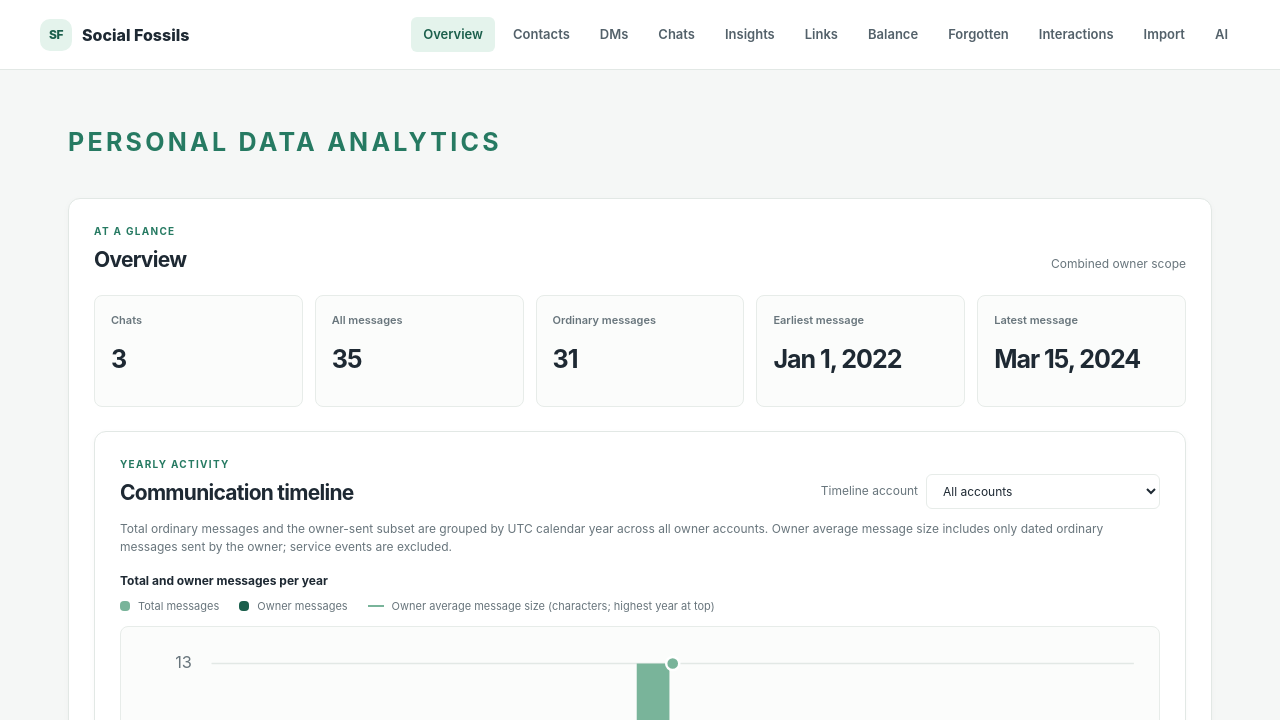
Test: dashboard › hides message-type and reaction sections for VK insight chats
Expected: the heading "All messages" is shown, [332,313,403,327]
What coordinates should you click on to do the following:
click the tab "Insights"
I would click on:
 (750, 35)
Its box is [713,17,787,52].
(page scrolled)
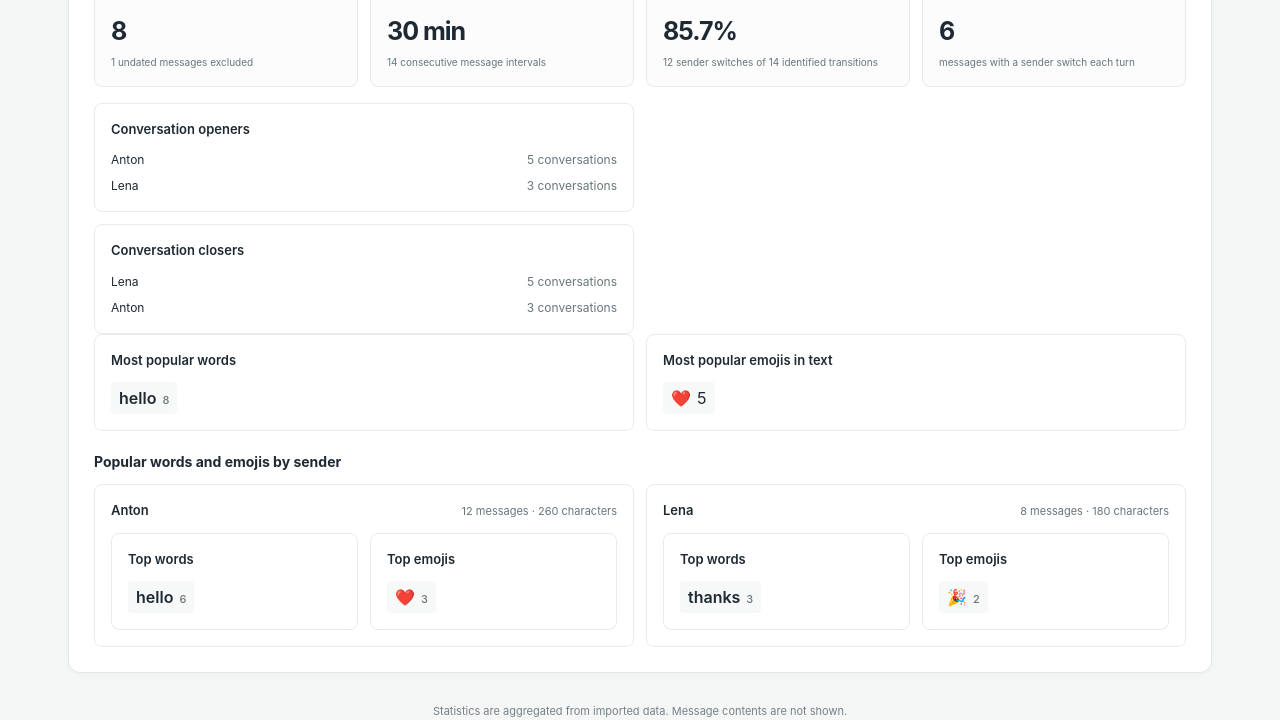
Expected: the heading "Most popular words" is shown, [111,352,236,368]
